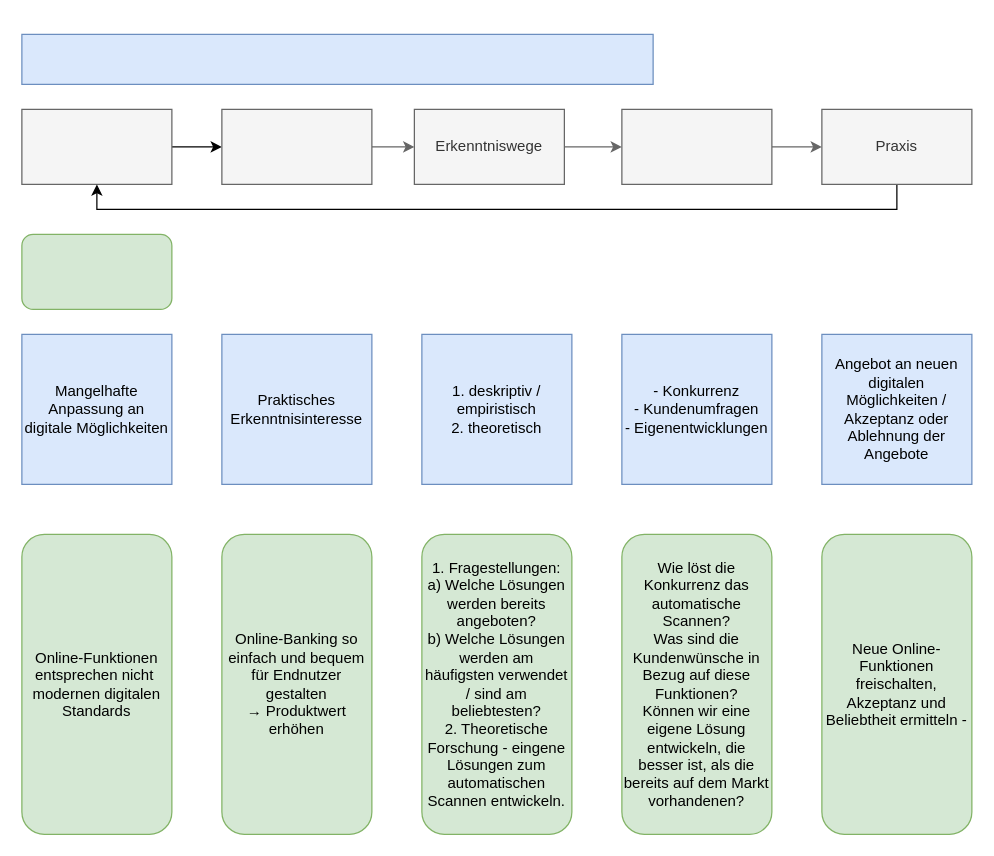
Some shapes in this 994 by 856 pixel diagram are drawn without their labels. Here are the shapes that lost their labels. From the top down, the centre of each, then its label:
At point 337,58: "Anpassung an digitale Möglichkeiten".
At point 96,146: "Probleme".
At point 296,146: "Erkenntnisinteressen".
At point 696,146: "Erkenntnisangebote".
At point 96,271: "Beispiel: Online-Banking".
